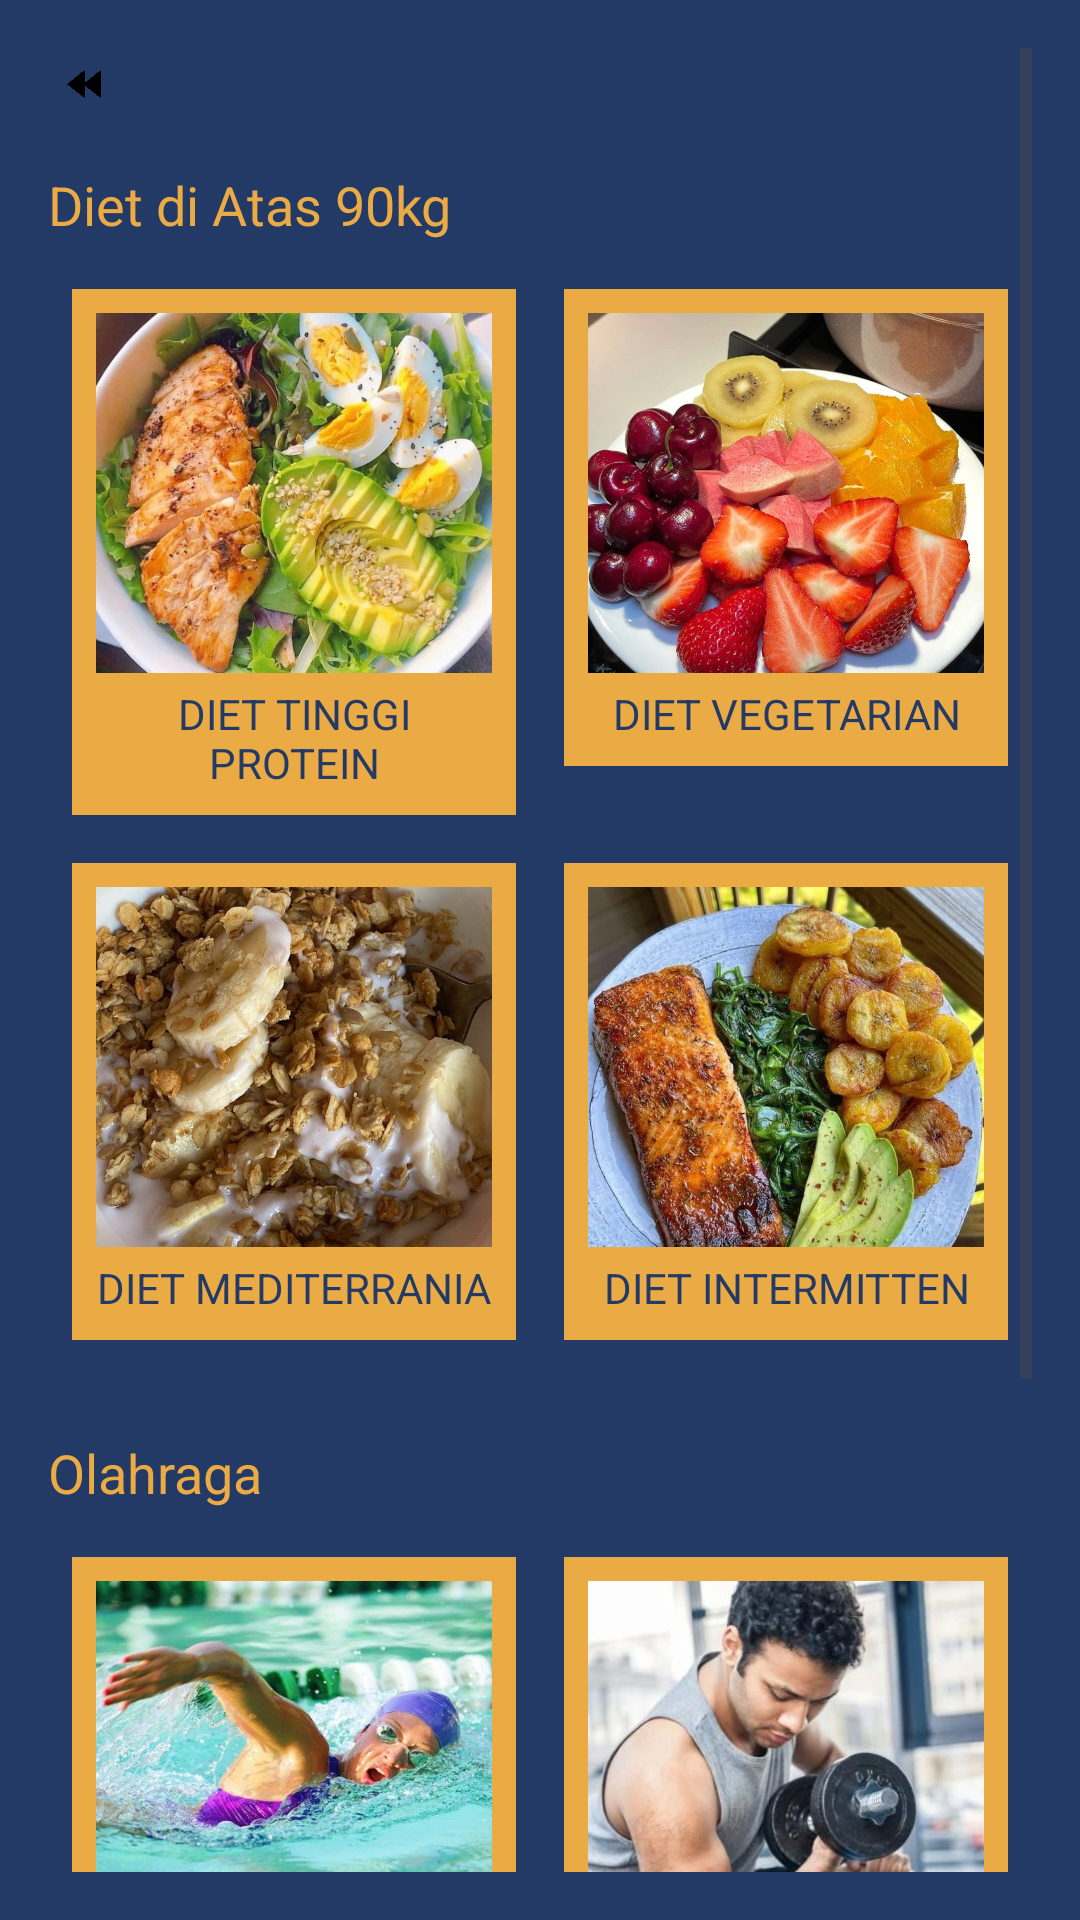

Locate icon controls on the screen. Image size 1080×1920, boxes as BBox(x1, y1, x2, y2).
tombolback: BBox(67, 70, 101, 98)
